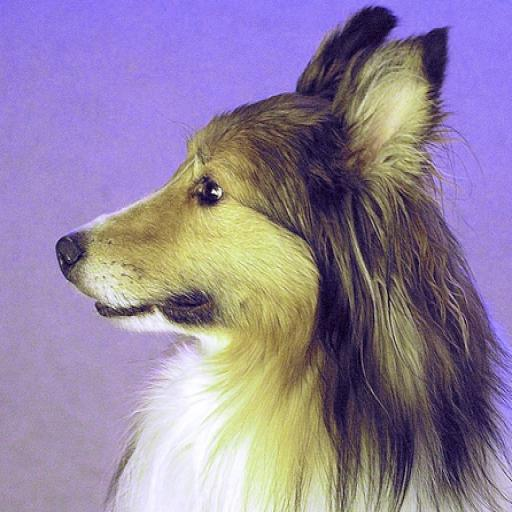dog_face: (53, 17, 438, 354)
